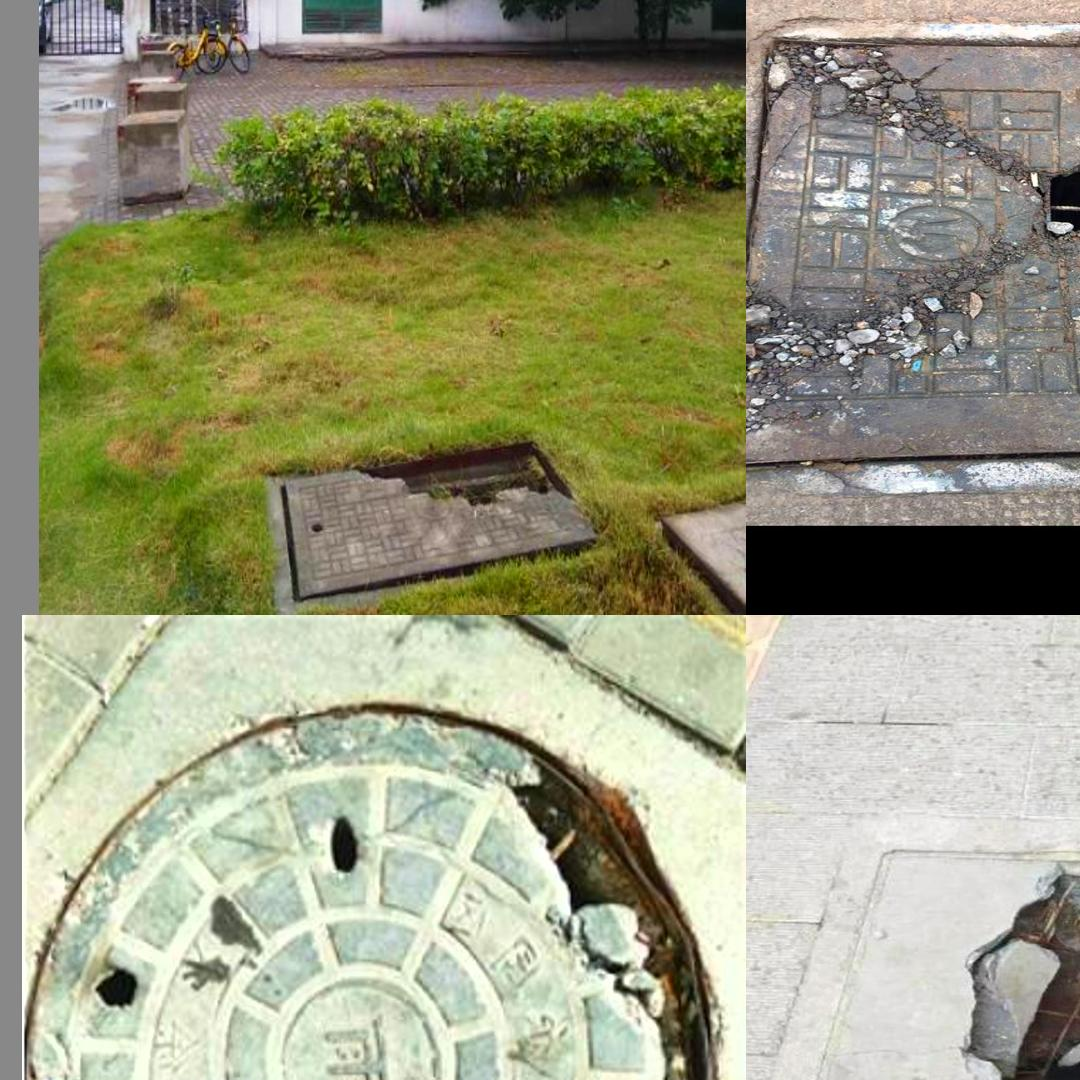broke: (30, 684, 716, 1080), (747, 17, 1080, 504), (777, 828, 1080, 1080), (264, 438, 599, 615)
